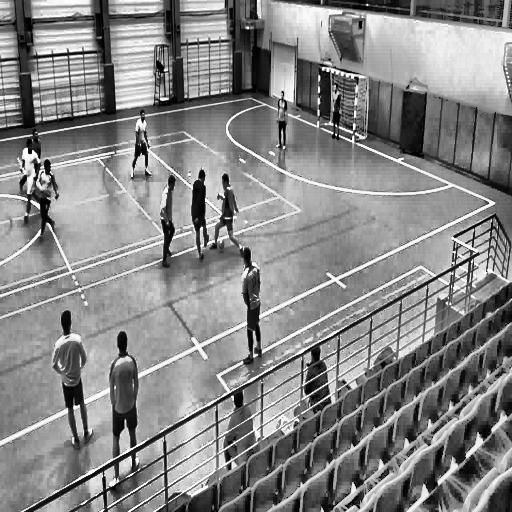ball: (218, 238, 226, 254)
player: (52, 310, 94, 450), (108, 333, 140, 491), (209, 174, 244, 258), (241, 249, 263, 365), (36, 160, 59, 242), (191, 170, 209, 266), (20, 139, 40, 222), (128, 110, 152, 178), (160, 176, 176, 270), (19, 128, 41, 194), (276, 91, 288, 151), (330, 84, 341, 140)
